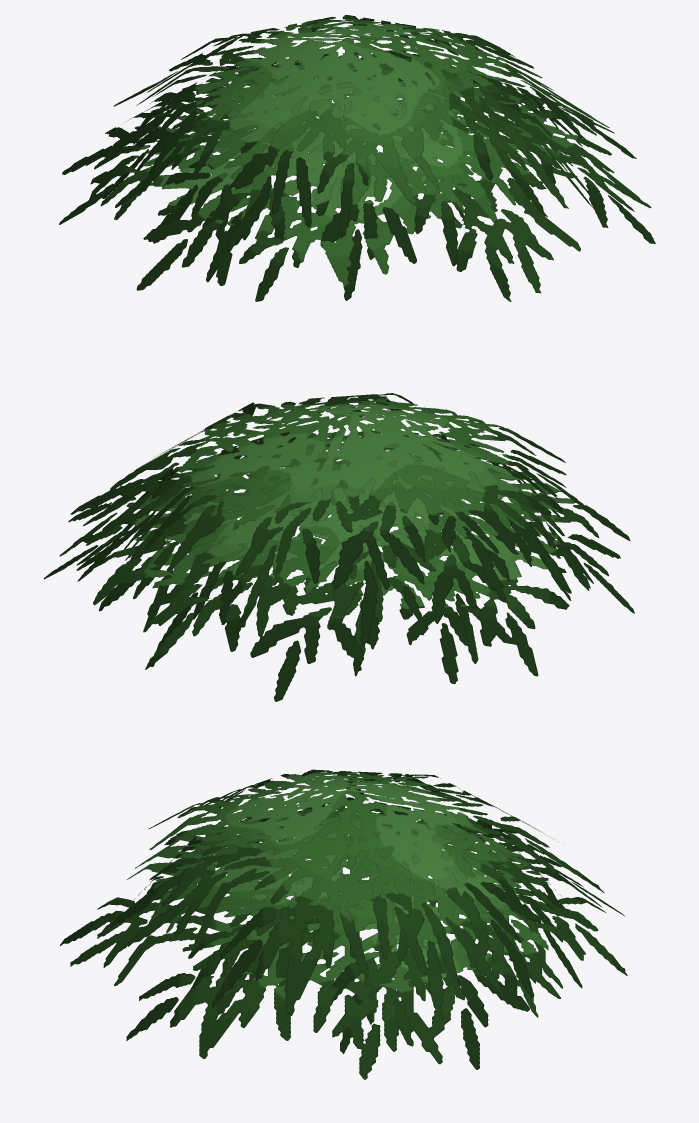
File: Pmoss_preview_3DS_simplified.glb
3 renders of one model, top to bottom at view 1: azimuth 30°, elevation 25°; view 2: azimuth 150°, elevation 25°; view 3: azimuth 270°, elevation 25°, orthographic. The views are drawn at different scales.
Parts seen in each view (by area): view 1: Marine Park Empire model; view 2: Marine Park Empire model; view 3: Marine Park Empire model.
Part boxes in pixels (x1=…): Marine Park Empire model: x1=59, y1=15, x2=655, y2=301; Marine Park Empire model: x1=44, y1=393, x2=634, y2=701; Marine Park Empire model: x1=60, y1=769, x2=627, y2=1079.
Size of the model in its own units: 114 by 32.95 by 114.
Materials: 1 (1 with a texture image).
